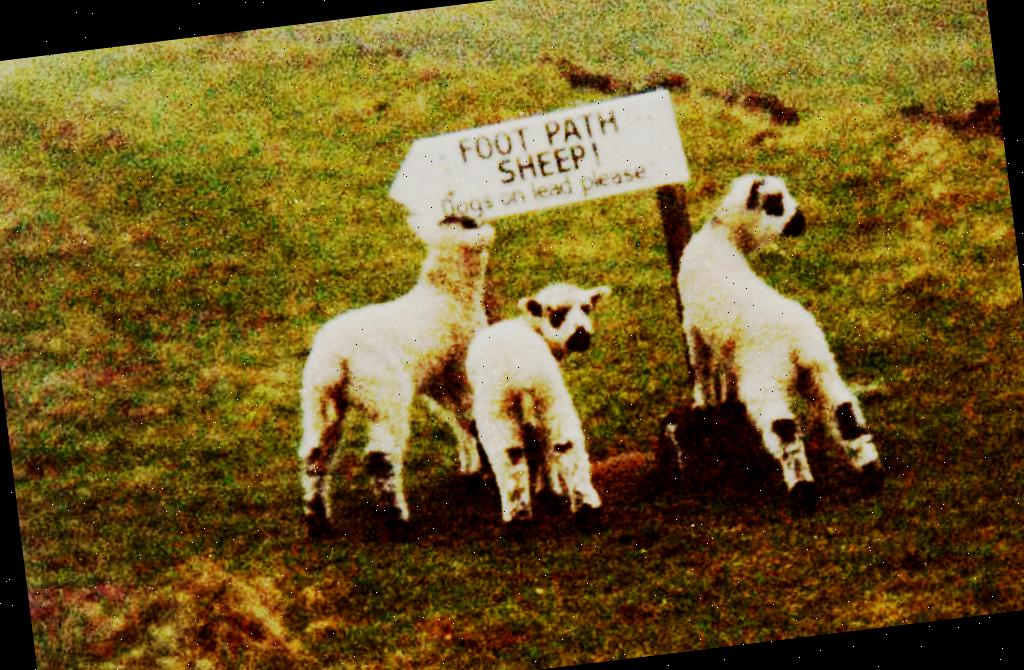Sheep: (266, 207, 532, 552), (664, 162, 889, 526), (458, 276, 640, 545)
